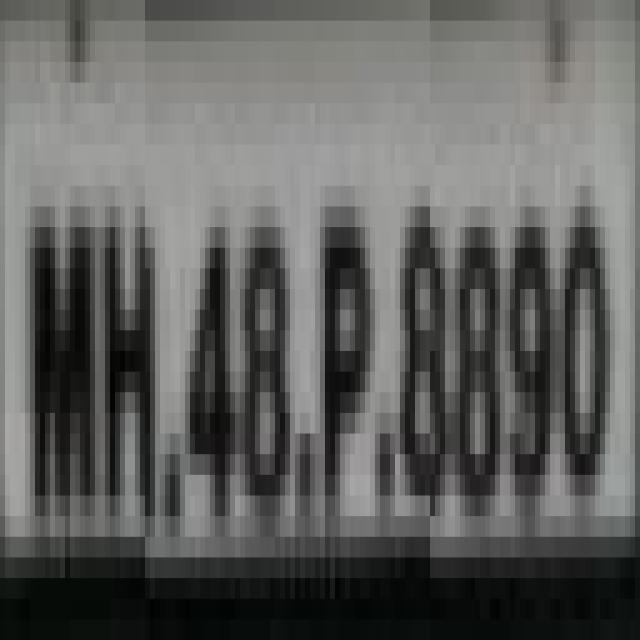license_plate: (20, 21, 640, 578)
